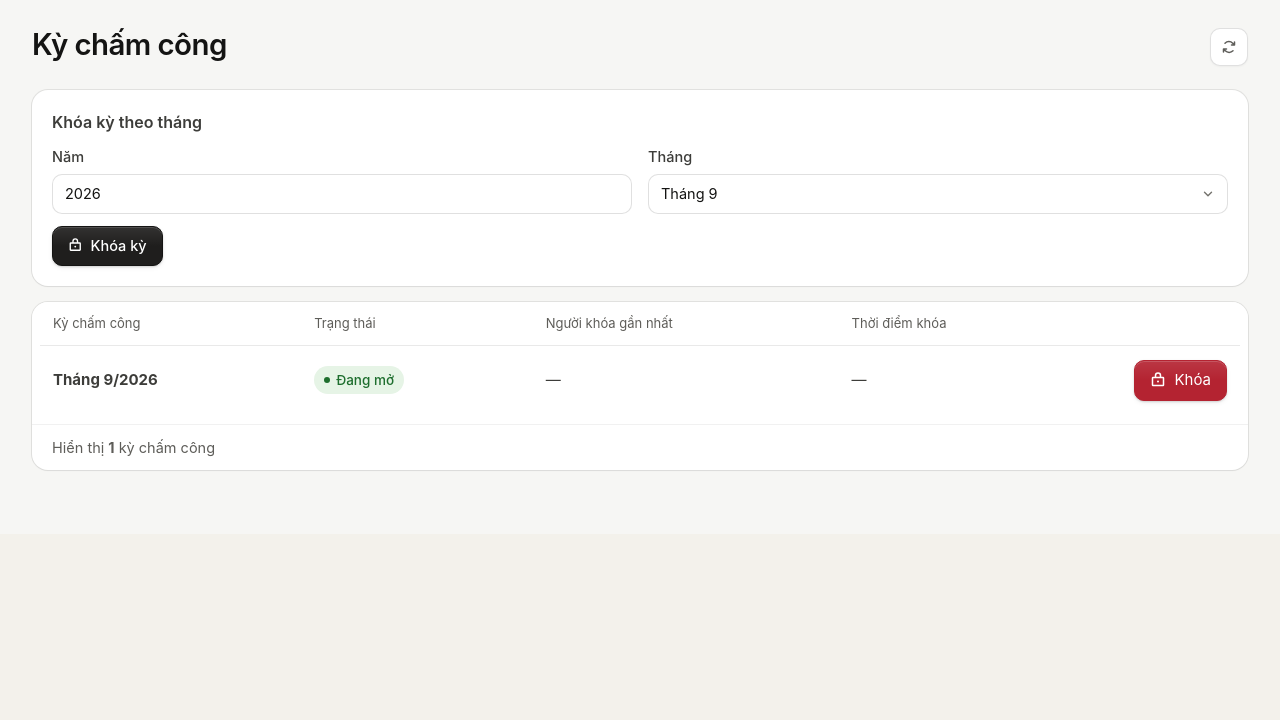
Test: TimesheetPeriodPage (NCL-06-CN-006 — Khóa kỳ chấm công) › hiển thị lỗi khi khóa thất bại (ví dụ còn bảng chấm công đang chờ duyệt)
Check: the row with test id "period-row-3" is shown, box [40,346,1240,416]
Click the button with test id "btn-lock-3".
click(1181, 380)  # box [1134,360,1227,400]
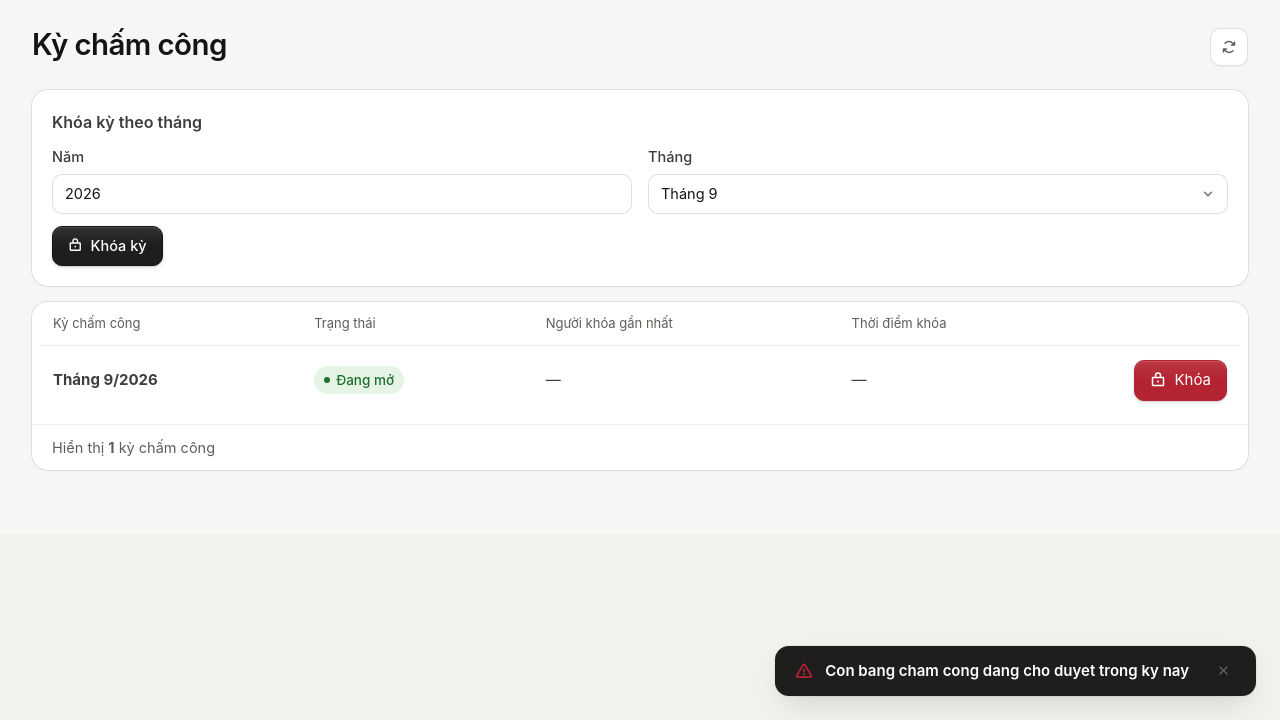
Check: the text "Con bang cham cong dang cho duyet trong ky nay" is shown, box [825,660,1189,682]
